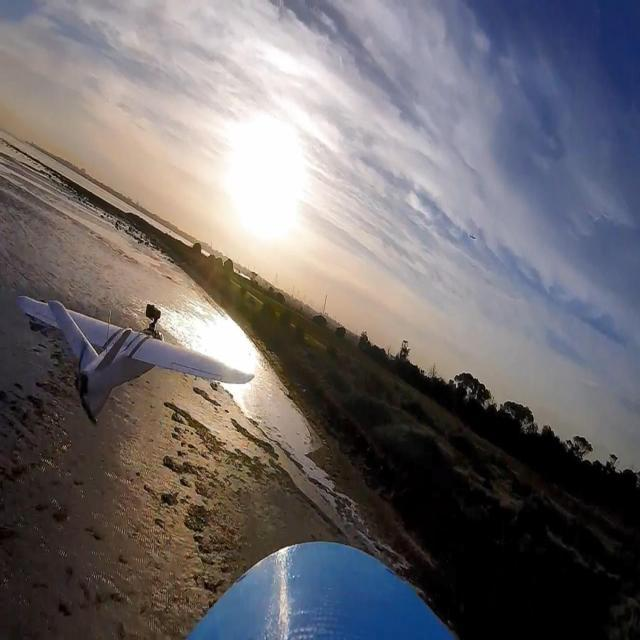UAV: (36, 276, 282, 426)
